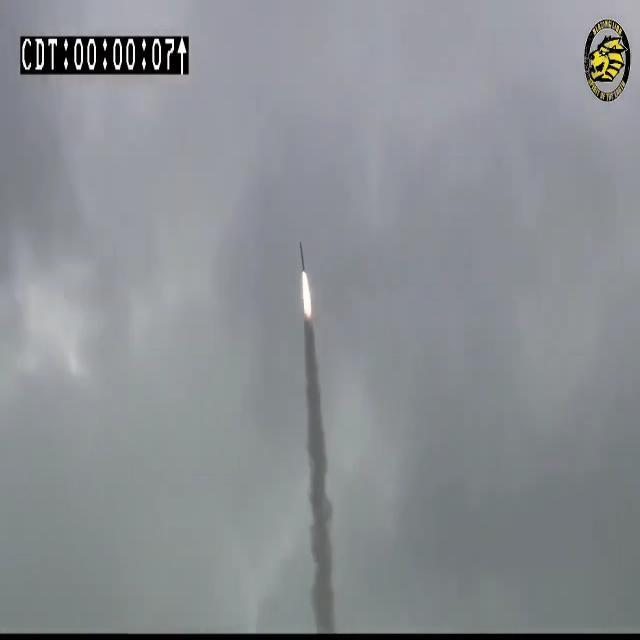missile: (299, 240, 307, 272)
